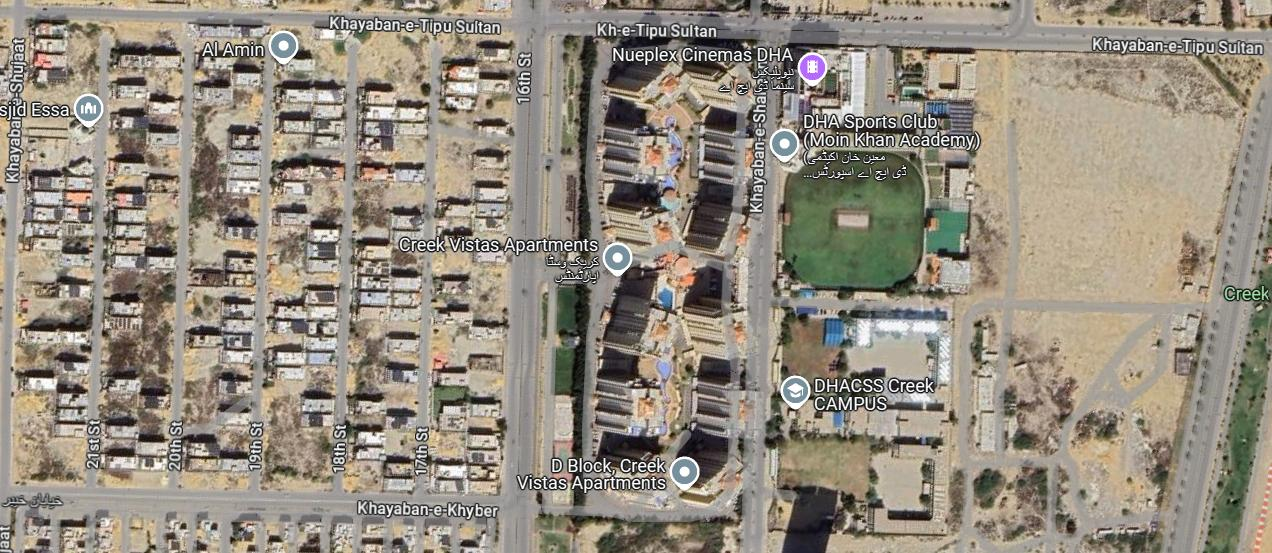Buildings: (767, 50, 1262, 551), (541, 35, 747, 507), (10, 20, 102, 490), (342, 30, 431, 490), (263, 27, 350, 487), (430, 34, 514, 493), (99, 22, 182, 482), (182, 27, 262, 491)
